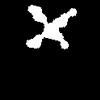single_crochet: (26, 5, 76, 48)
